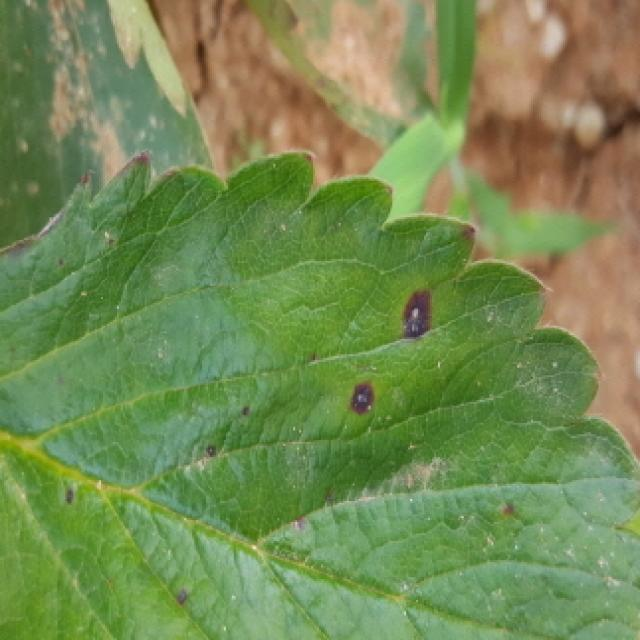Leaf Spot: (0, 150, 640, 640)
